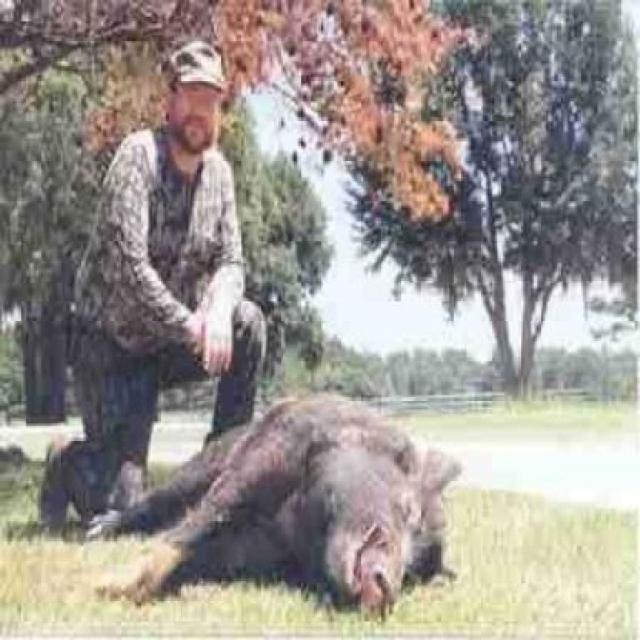Boar: (160, 367, 500, 636)
